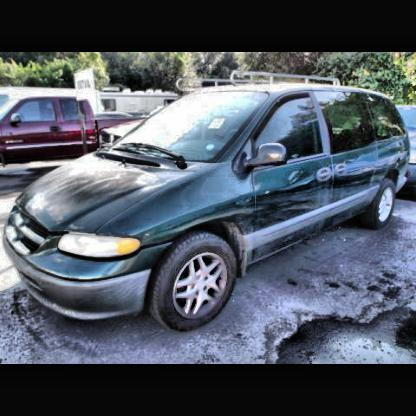Dodge Caravan Minivan 1997: (5, 73, 411, 333)
